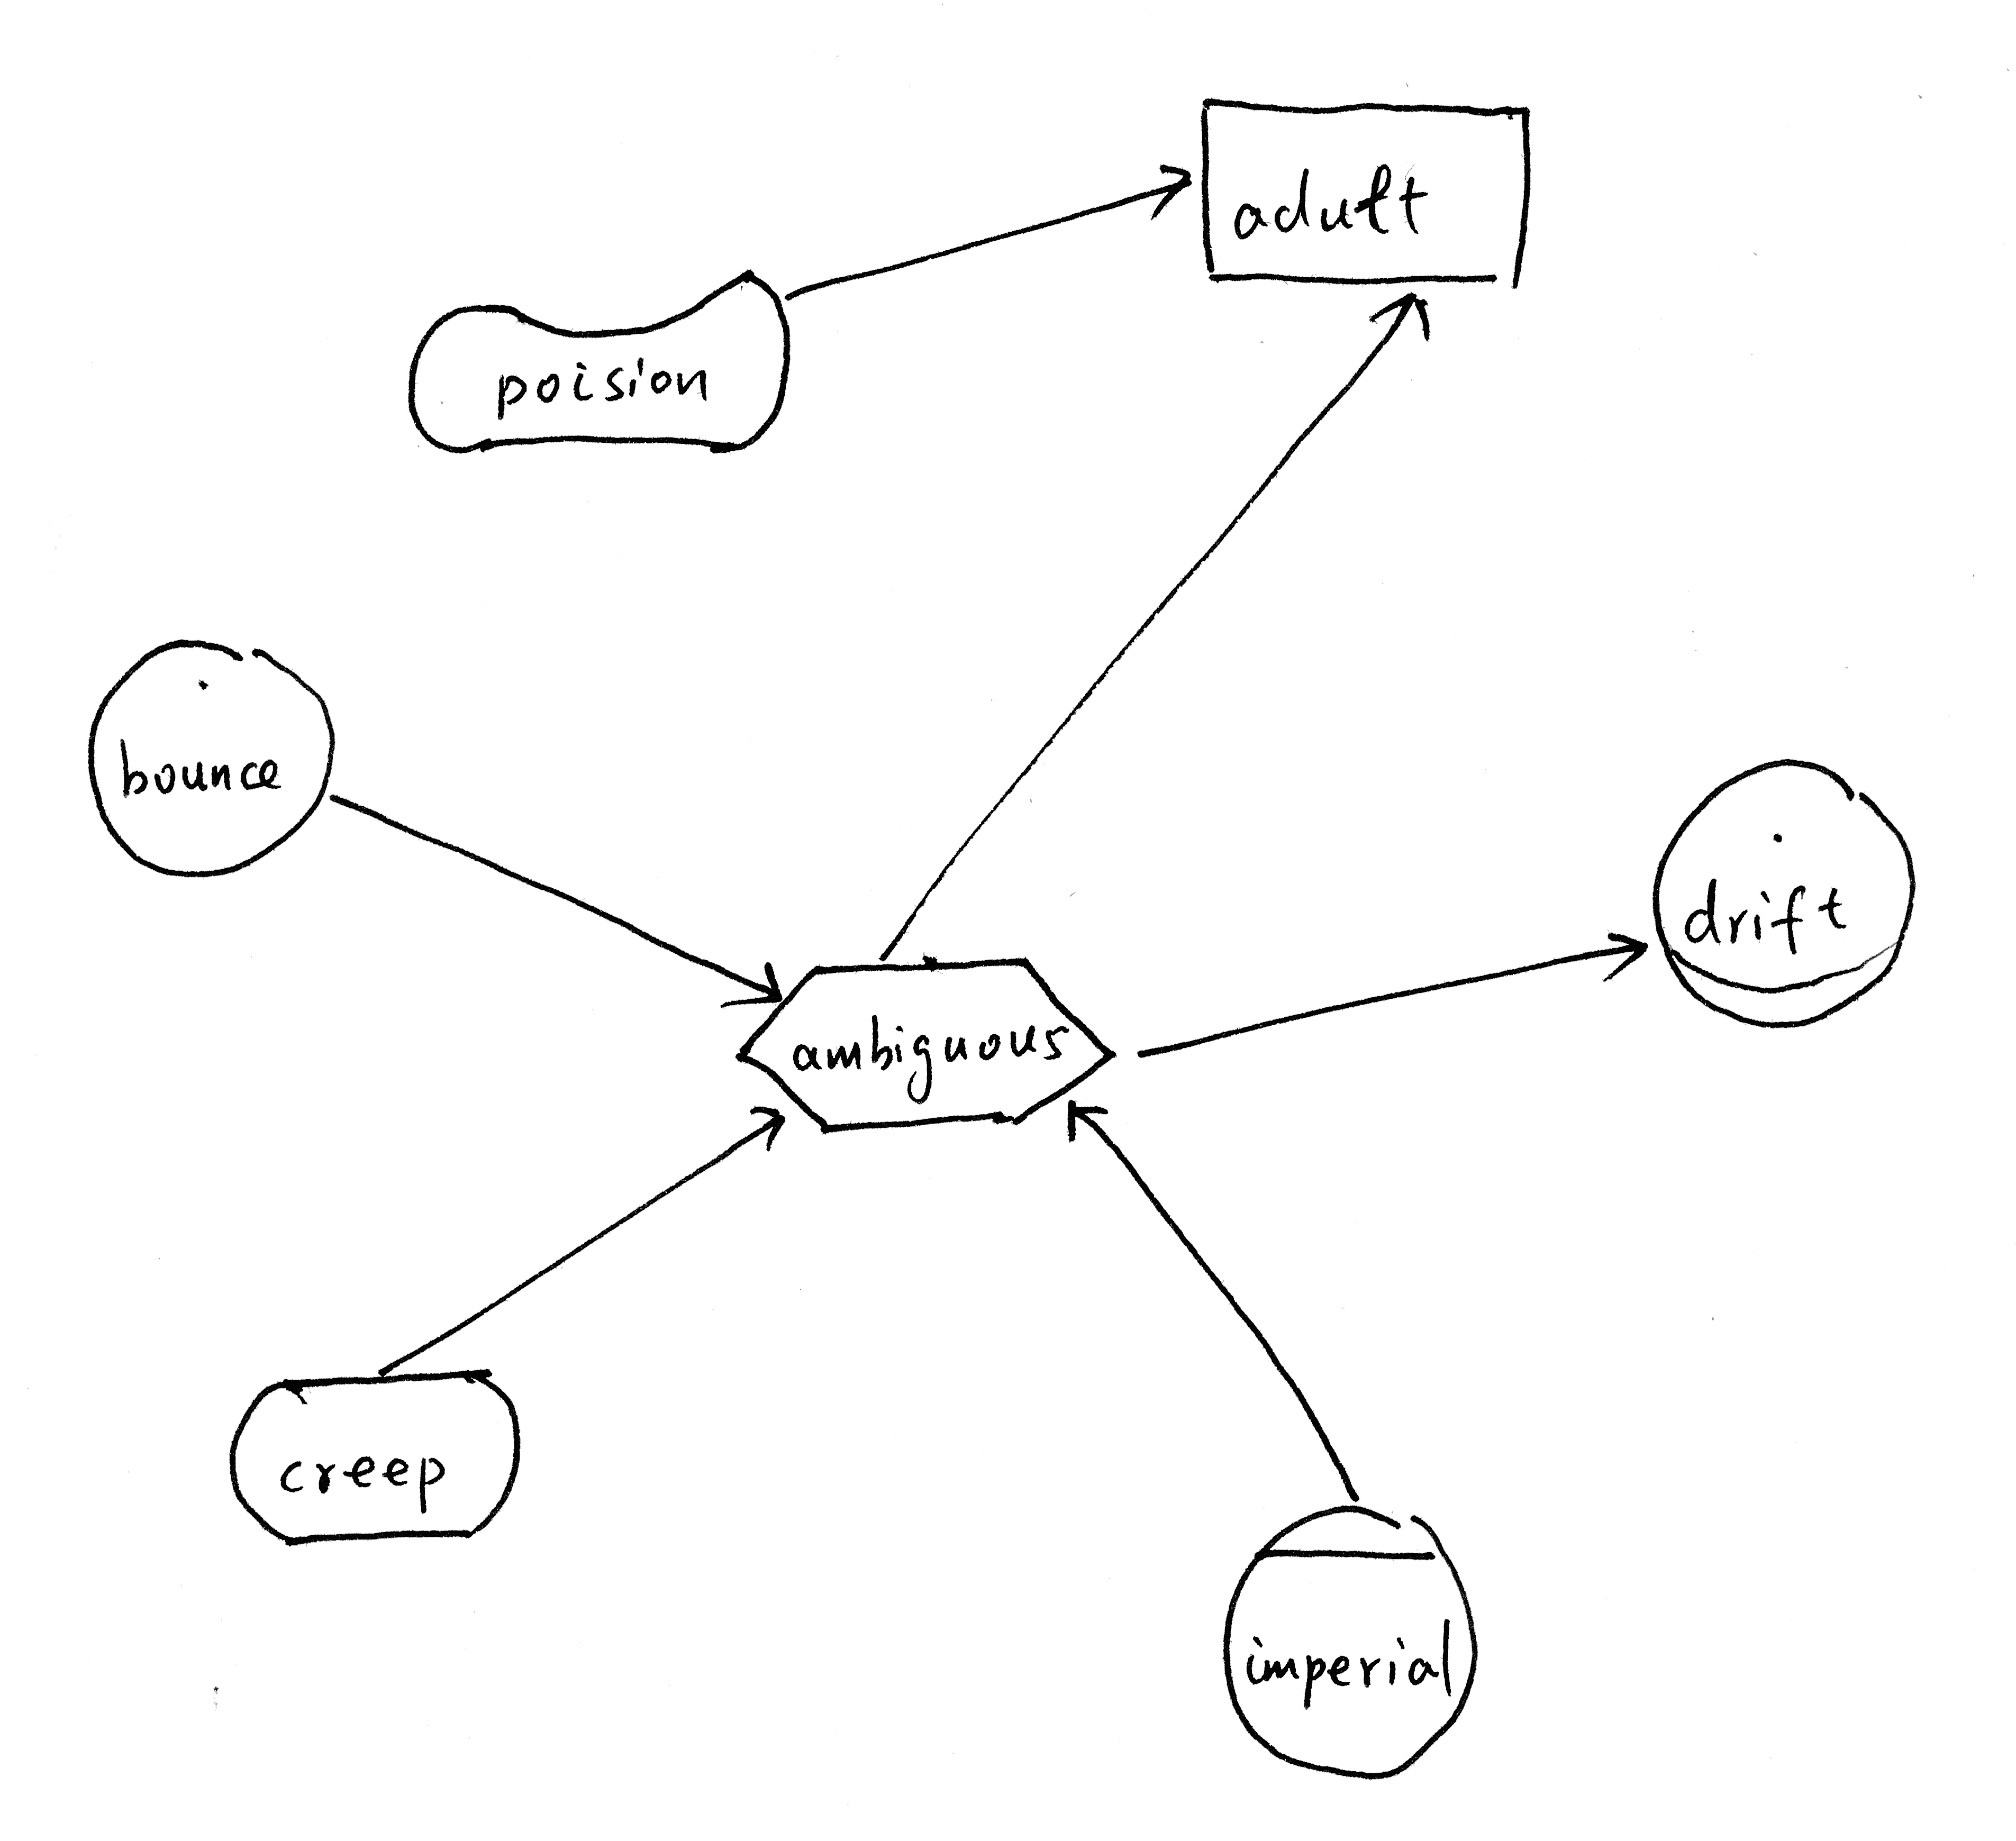actor: (74, 621, 351, 893)
agent: (1208, 1486, 1489, 1787)
arrow: (1131, 144, 1215, 233), (1043, 1078, 1129, 1164), (1356, 279, 1445, 356), (1584, 913, 1661, 1000), (711, 948, 797, 1025), (736, 1081, 808, 1169)
goal: (209, 1358, 539, 1551)
quality: (385, 247, 810, 476)
resource: (1180, 75, 1552, 304)
role: (1638, 739, 1928, 1041)
task: (724, 942, 1127, 1146)
